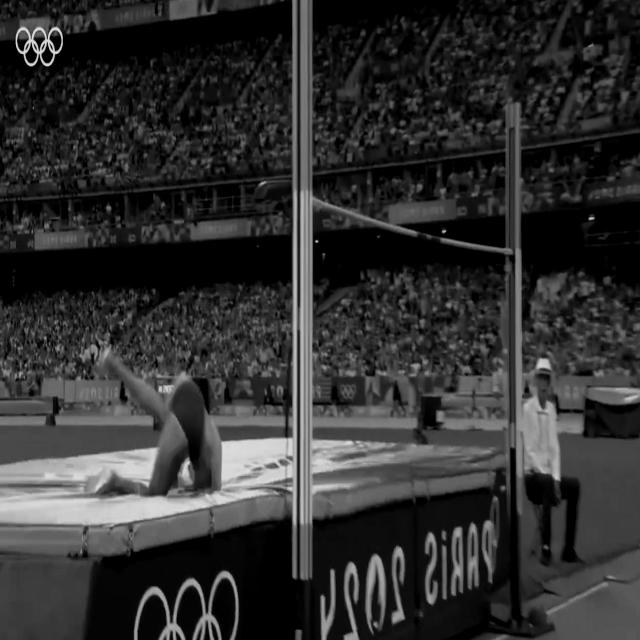land: (96, 346, 221, 498)
